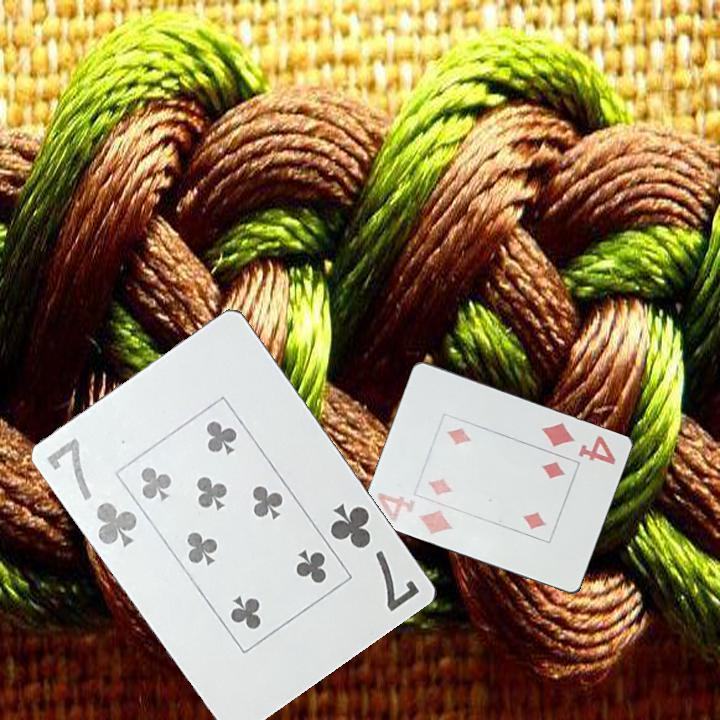4d: (538, 417, 619, 467), (374, 489, 456, 538)
7c: (43, 434, 141, 550), (327, 499, 424, 615)
